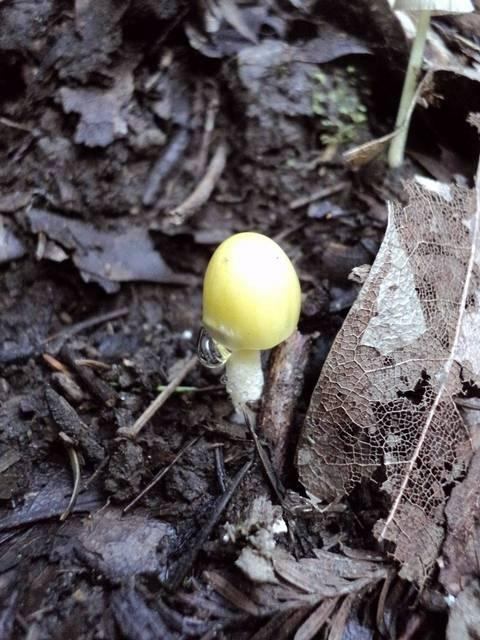Edible Mushroom: (196, 229, 302, 428)
